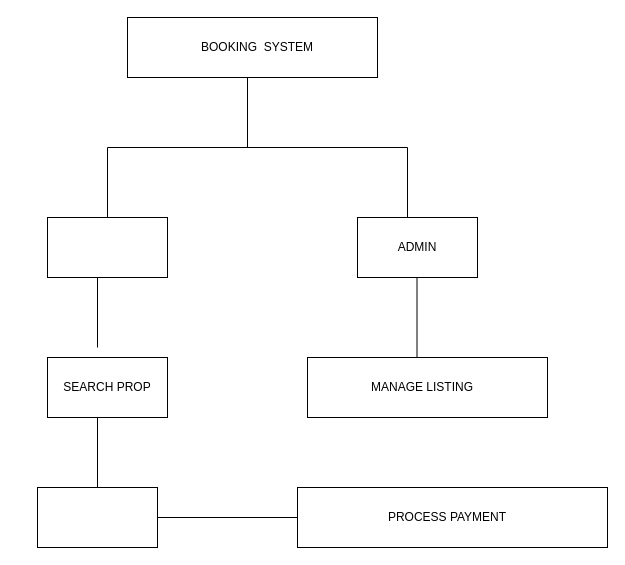
The diagram is 625 pixels wide and 565 high, and some of its shapes have lost their labels. The shapes that lost their labels are listed below. From the top down, each one's centre as x and y in pixels, then its label:
At point 107,247: "USER".
At point 97,517: "BOOK".
